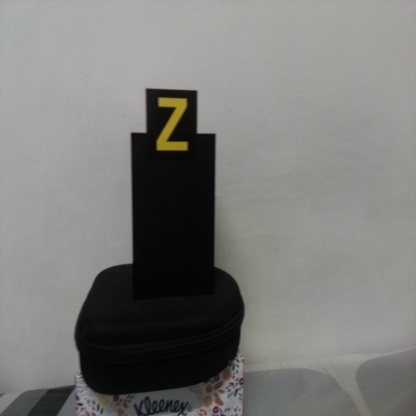id_15: (145, 88, 198, 160)
